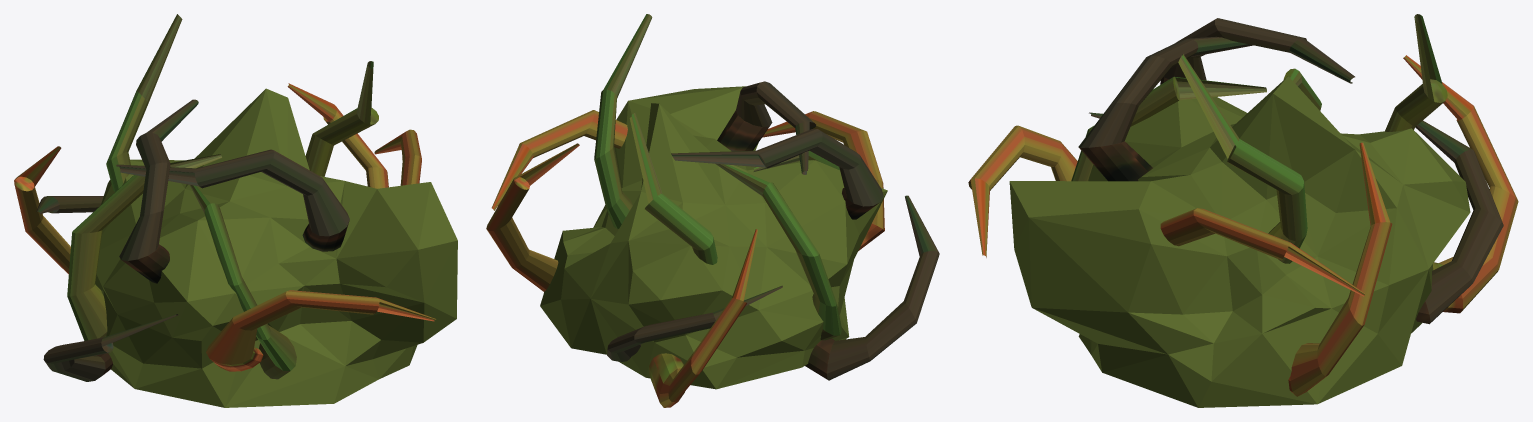
The model's file is nexus.glb.
3 views of the same model, side by side, from view 1: azimuth 30°, elevation 25°; view 2: azimuth 150°, elevation 25°; view 3: azimuth 270°, elevation 25° (orthographic). The views are drawn at different scales.
Visible parts, largest first — view 1: Icosphere.001, Cylinder.021, Cylinder.017, Cylinder.018, Cylinder.020, Cylinder.023, Cylinder.022, Cylinder.025, Cylinder.026, Cylinder.019, Cylinder.015, Cylinder.024 (+1 smaller); view 2: Icosphere.001, Cylinder.025, Cylinder.020, Cylinder.015, Cylinder.026, Cylinder.018, Cylinder.019, Cylinder.021, Cylinder.022, Cylinder.024, Cylinder.017, Cylinder.016; view 3: Icosphere.001, Cylinder.021, Cylinder.016, Cylinder.015, Cylinder.019, Cylinder.026, Cylinder.017, Cylinder.024, Cylinder.020, Cylinder.022, Cylinder.023, Cylinder.018.
Part boxes in pixels (left/top/right/bottom): Icosphere.001: left=95, top=88, right=457, bottom=407; Cylinder.021: left=116, top=149, right=349, bottom=251; Cylinder.017: left=206, top=290, right=435, bottom=371; Cylinder.018: left=67, top=154, right=221, bottom=340; Cylinder.020: left=119, top=99, right=198, bottom=283; Cylinder.023: left=190, top=185, right=296, bottom=379; Cylinder.022: left=106, top=14, right=182, bottom=191; Cylinder.025: left=43, top=314, right=178, bottom=381; Cylinder.026: left=14, top=146, right=70, bottom=274; Cylinder.019: left=305, top=61, right=378, bottom=176; Cylinder.015: left=287, top=83, right=388, bottom=188; Cylinder.024: left=374, top=129, right=421, bottom=185; Icosphere.001: left=540, top=86, right=887, bottom=389; Cylinder.025: left=805, top=195, right=939, bottom=380; Cylinder.020: left=671, top=129, right=883, bottom=219; Cylinder.015: left=486, top=143, right=579, bottom=291; Cylinder.026: left=649, top=229, right=757, bottom=407; Cylinder.018: left=715, top=163, right=842, bottom=340; Cylinder.019: left=594, top=14, right=652, bottom=228; Cylinder.021: left=717, top=81, right=815, bottom=174; Cylinder.022: left=629, top=113, right=717, bottom=264; Cylinder.024: left=491, top=110, right=627, bottom=210; Cylinder.017: left=762, top=111, right=884, bottom=250; Cylinder.016: left=607, top=285, right=782, bottom=361; Icosphere.001: left=1009, top=76, right=1470, bottom=407; Cylinder.021: left=1078, top=36, right=1253, bottom=181; Cylinder.016: left=1415, top=120, right=1503, bottom=324; Cylinder.015: left=1288, top=142, right=1392, bottom=396; Cylinder.019: left=1178, top=54, right=1307, bottom=263; Cylinder.026: left=1403, top=55, right=1518, bottom=313; Cylinder.017: left=968, top=125, right=1077, bottom=257; Cylinder.024: left=1160, top=208, right=1364, bottom=296; Cylinder.020: left=1160, top=18, right=1354, bottom=84; Cylinder.022: left=1385, top=14, right=1447, bottom=131; Cylinder.023: left=1071, top=76, right=1266, bottom=181; Cylinder.018: left=1283, top=68, right=1321, bottom=110.
Bounding box in the file's own units: 3.64 × 2.58 × 3.82.
Materials: 8 (8 with a texture image).
